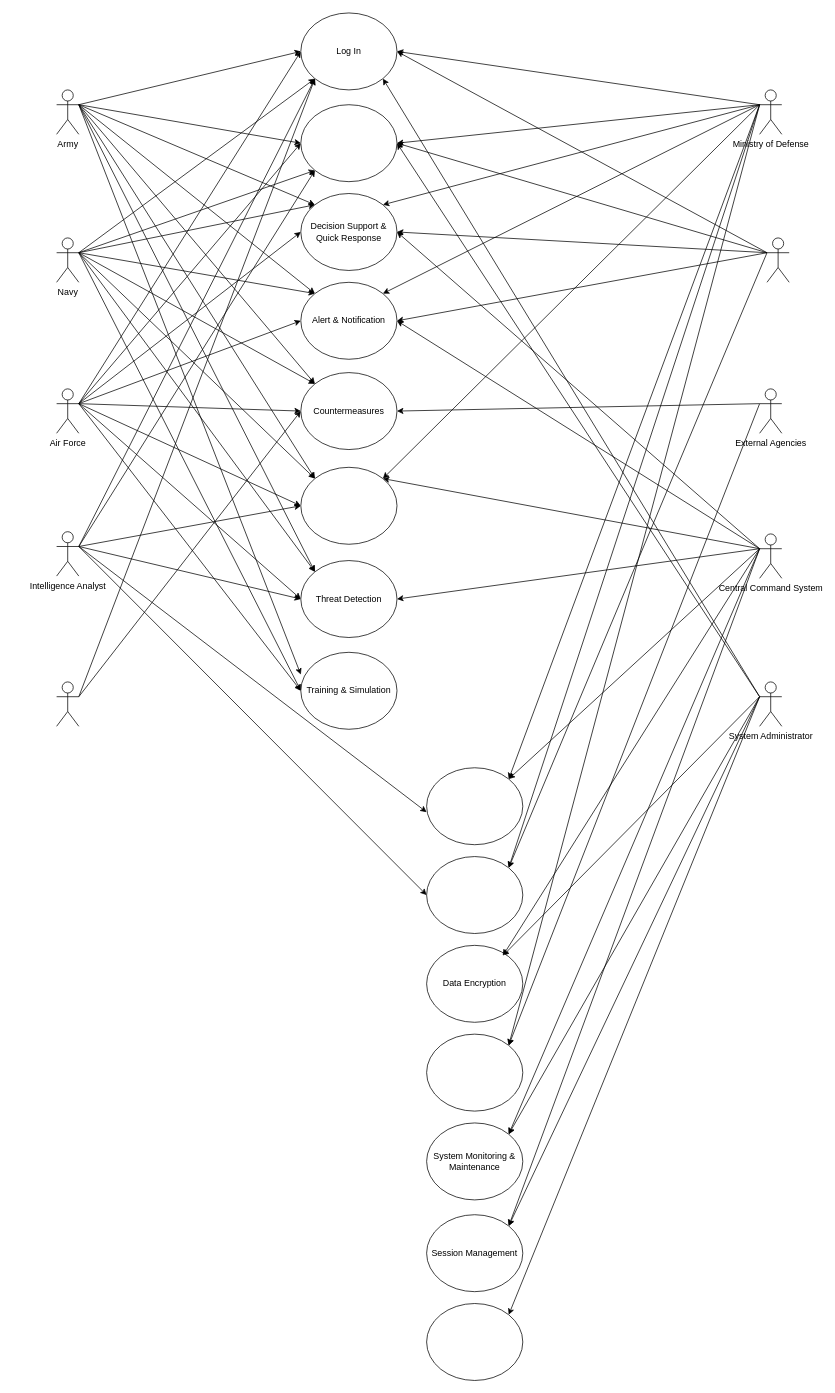
This 835x1393 diagram has some shape labels left out. Here are the shapes that lost their labels. From the top down, the box of each, then its label:
(300, 104, 397, 182): Log Out
(766, 237, 789, 282): President's Advisor
(300, 467, 397, 544): Secure Data Access
(56, 681, 79, 726): Emergency Response Units
(426, 767, 523, 845): Threat Classification & Risk Assessment
(426, 856, 523, 934): Post-Threat Analysis & Reporting
(426, 1033, 523, 1111): Communication & Coordination
(426, 1303, 523, 1380): User Account Management
